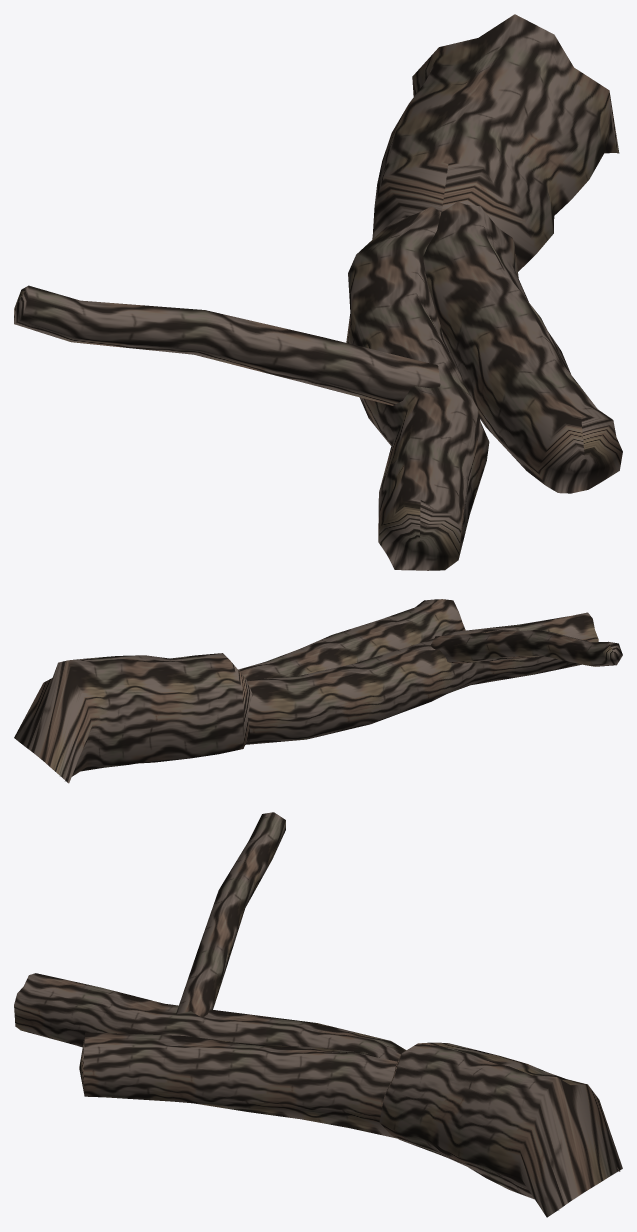
The model's file is fallen-b.lod0.glb.
3 views of the same model, one above another, from view 1: azimuth 30°, elevation 25°; view 2: azimuth 150°, elevation 25°; view 3: azimuth 270°, elevation 25° (orthographic). The views are drawn at different scales.
Visible parts, largest first — view 1: bark; view 2: bark; view 3: bark.
Part boxes in pixels (x1,y1,x2,y2): bark: (14, 14, 622, 570); bark: (14, 599, 622, 783); bark: (14, 812, 622, 1217).
Bounding box in the file's own units: 3.34 × 0.8179 × 3.19.
Materials: 1 (1 with a texture image).
